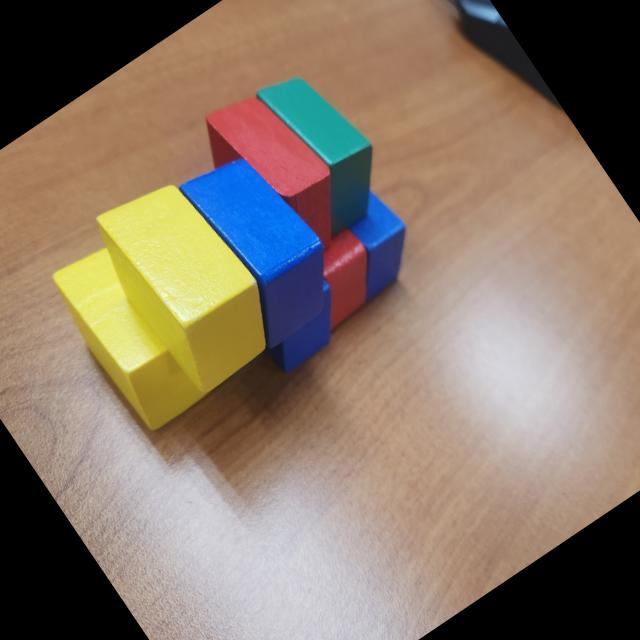blue: (163, 135, 359, 353), (220, 233, 360, 379), (312, 178, 432, 304)
green: (237, 54, 404, 241)
red: (186, 74, 368, 277), (282, 218, 402, 336)
yellow: (79, 160, 295, 402), (42, 230, 222, 439)
